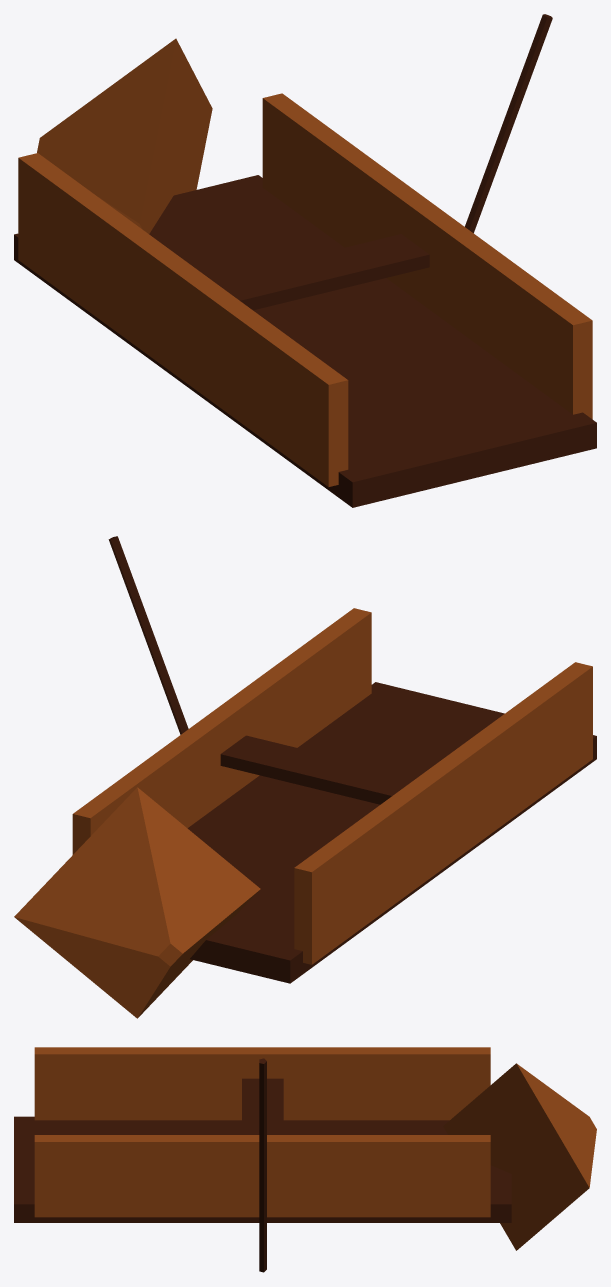
Rendered from rowboat.obj.
3 views of the same model, one above another, from view 1: azimuth 30°, elevation 25°; view 2: azimuth 150°, elevation 25°; view 3: azimuth 270°, elevation 25° (orthographic). The views are drawn at different scales.
Parts seen in each view (by area): view 1: rowboat; view 2: rowboat; view 3: rowboat.
Boxes of the visible parts, x1,y1,x2,y2 form: rowboat: [14, 14, 596, 507]; rowboat: [14, 536, 596, 1018]; rowboat: [14, 1047, 596, 1272].
Bounding box in the file's own units: 1.55 × 1.4 × 2.81.
